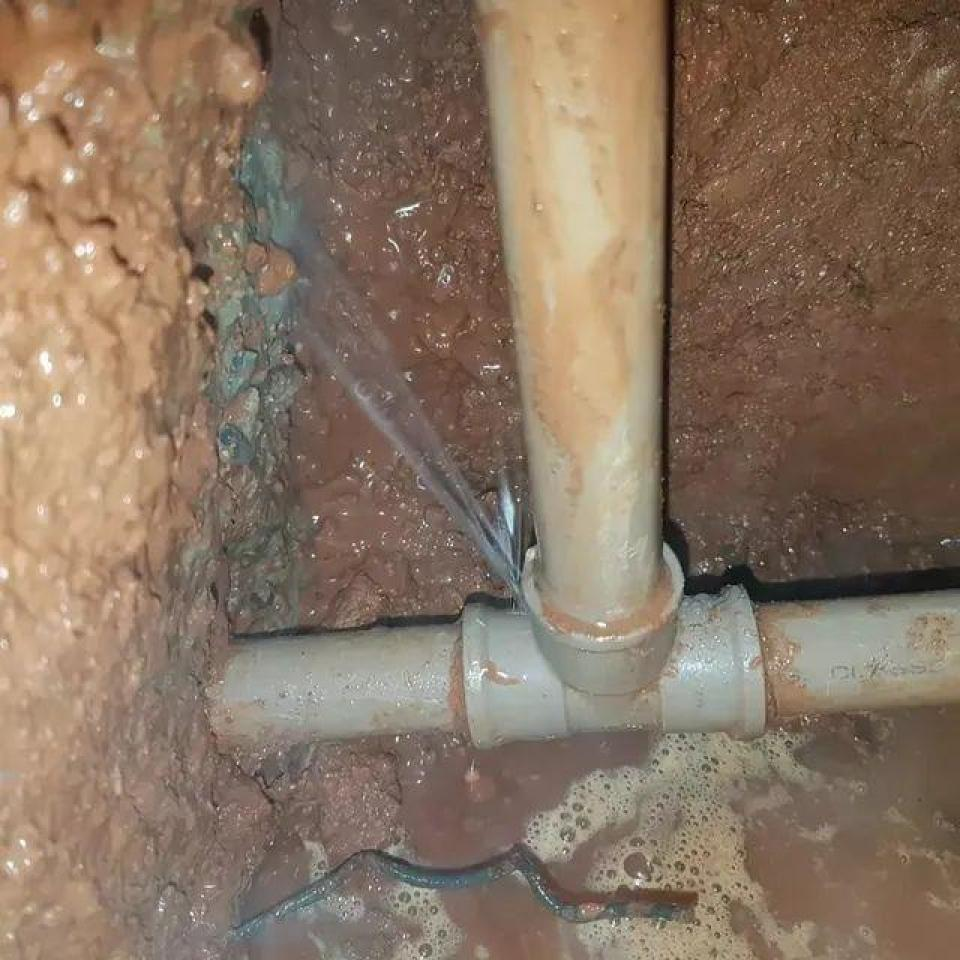pipe burst: (274, 195, 555, 625)
water accumulation: (237, 708, 960, 960), (778, 327, 960, 592)
